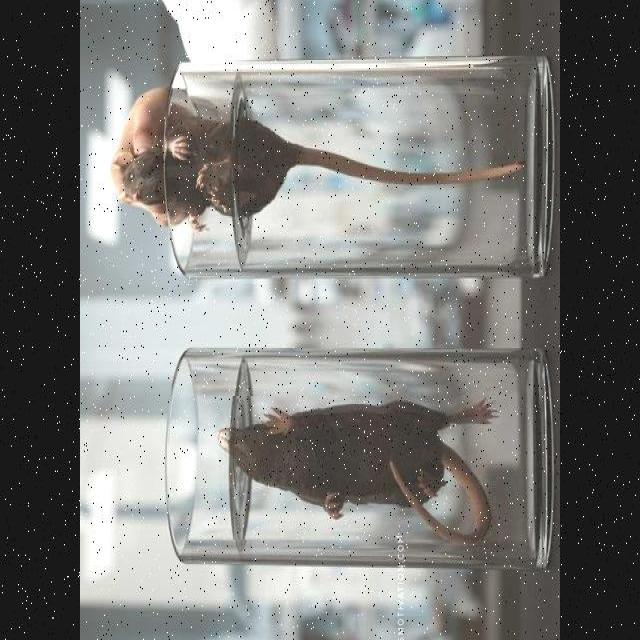rat: (110, 87, 521, 230), (220, 396, 496, 540)
